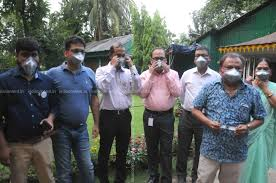mask: (16, 40, 40, 75), (220, 54, 243, 86), (66, 33, 88, 65), (108, 42, 130, 69), (193, 44, 209, 72), (151, 46, 166, 73), (256, 56, 272, 81)
